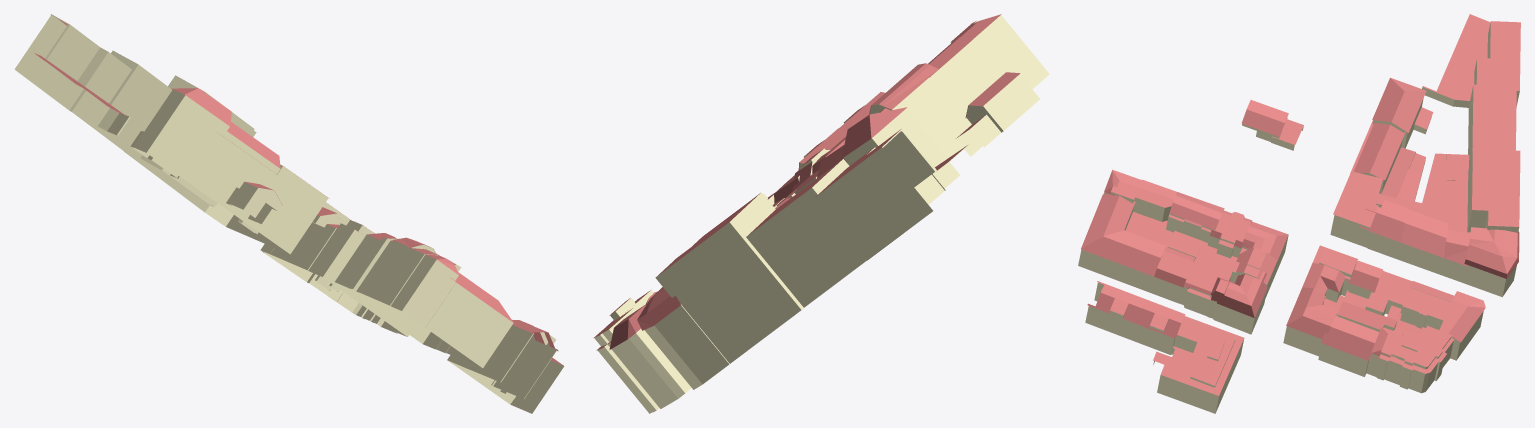
File: tile_075.glb
3 views of the same model, side by side, from view 1: azimuth 30°, elevation 25°; view 2: azimuth 150°, elevation 25°; view 3: azimuth 270°, elevation 25° (orthographic). The views are drawn at different scales.
Parts seen in each view (by area): view 1: Batched_Building_ID_F75B9ECA-9F1B-4EBB-855E-B76E7969B1E2; view 2: Batched_Building_ID_F75B9ECA-9F1B-4EBB-855E-B76E7969B1E2; view 3: Batched_Building_ID_F75B9ECA-9F1B-4EBB-855E-B76E7969B1E2.
Part boxes in pixels (x1,y1,x2,y2): Batched_Building_ID_F75B9ECA-9F1B-4EBB-855E-B76E7969B1E2: [14, 14, 564, 413]; Batched_Building_ID_F75B9ECA-9F1B-4EBB-855E-B76E7969B1E2: [594, 14, 1049, 413]; Batched_Building_ID_F75B9ECA-9F1B-4EBB-855E-B76E7969B1E2: [1078, 14, 1520, 413].
Size of the model in its own units: 136 by 121 by 174.
